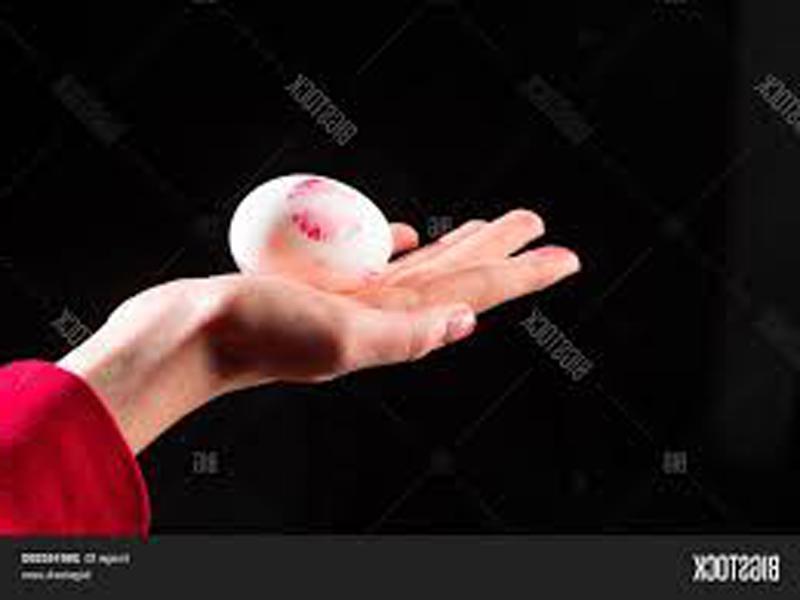Eggs: (227, 173, 387, 281)
